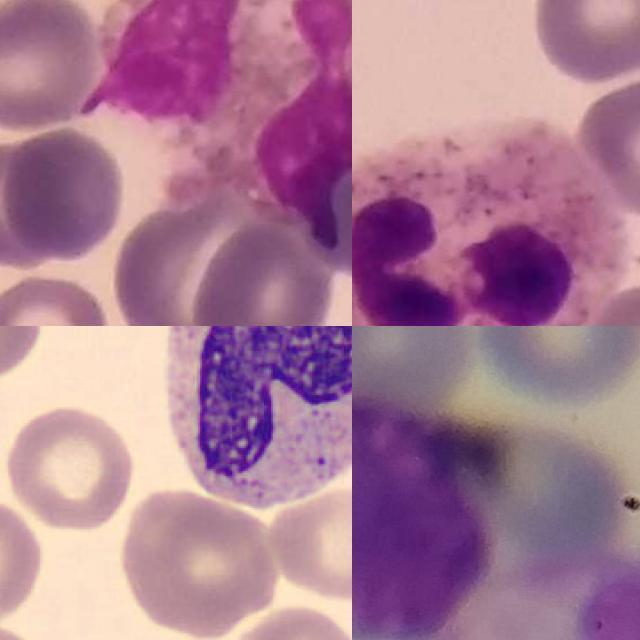Basophil: (352, 388, 486, 640)
Eosinophil: (94, 0, 352, 223)
Lymphocyte: (146, 326, 352, 520)
Monocyte: (420, 552, 640, 640)
Neutrophil: (352, 117, 626, 326)
RBC: (113, 489, 285, 637), (0, 400, 139, 534), (265, 481, 352, 603), (0, 497, 47, 625), (232, 603, 352, 640), (0, 326, 43, 391)
